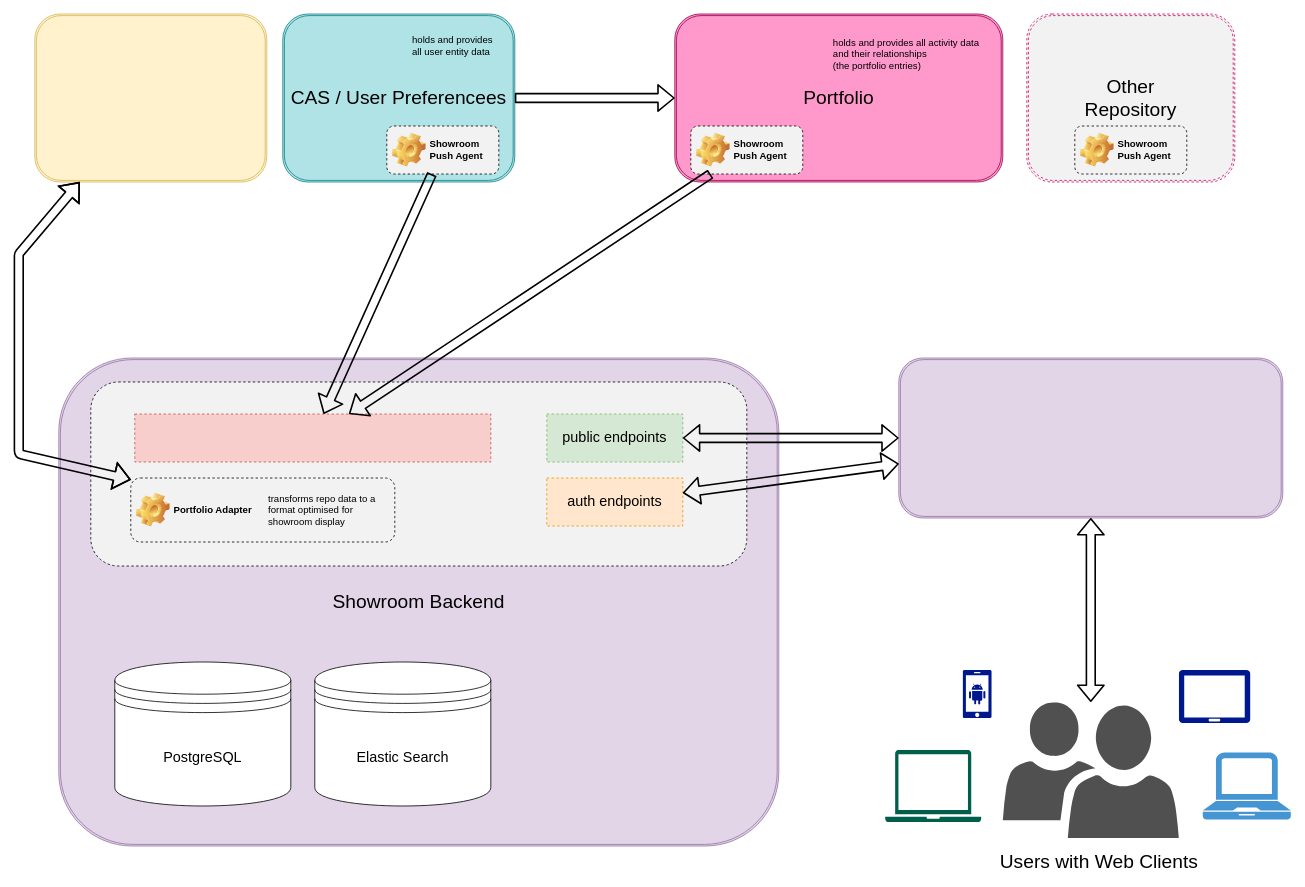
Some shapes in this 1305 by 887 pixel diagram are drawn without their labels. The centre of each missing label's shape, as x and y in pixels:
"repo endpoints" goes at point (312, 437).
"Showroom Frontend" goes at point (1090, 437).
"SKOSmos / Controlled Vocabulary" goes at point (150, 97).
